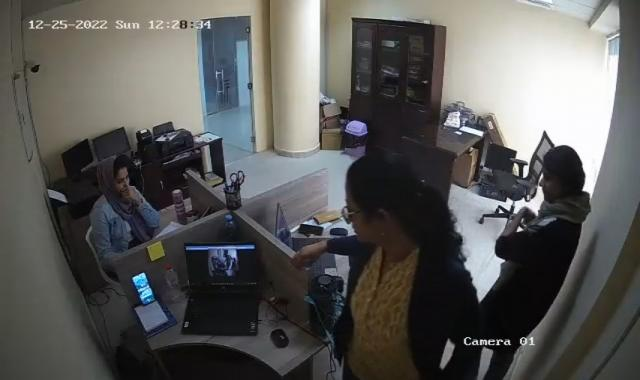no_hairnet: (341, 155, 430, 252), (538, 146, 584, 203), (98, 156, 131, 186)
